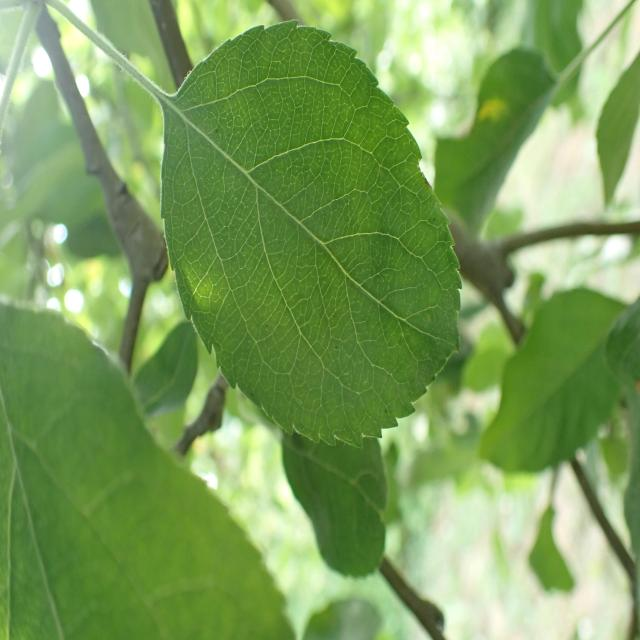healthy: (161, 19, 462, 449), (0, 296, 297, 640), (477, 287, 634, 473), (282, 430, 388, 580)
